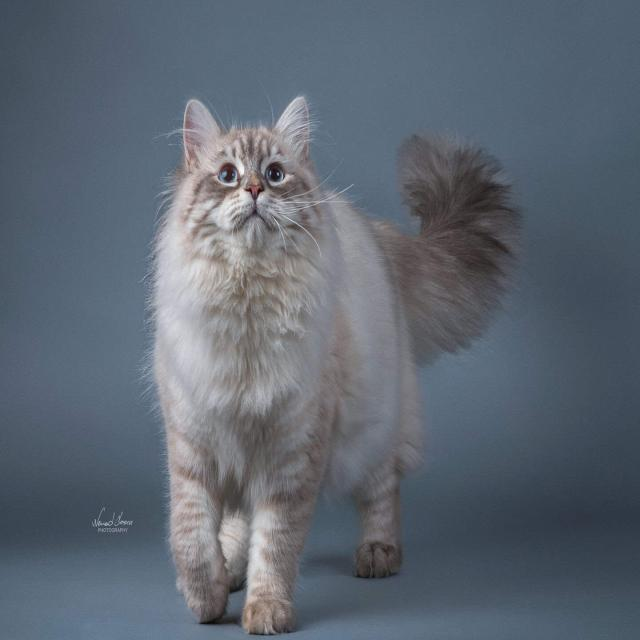Neva Masquerade: (144, 90, 526, 640)
